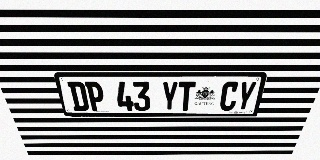3: (132, 81, 150, 111)
4: (115, 81, 134, 111)
C: (218, 81, 240, 111)
D: (67, 81, 90, 111)
P: (84, 81, 106, 111)
T: (177, 81, 196, 111)
Y: (234, 81, 257, 111), (161, 81, 178, 111)
